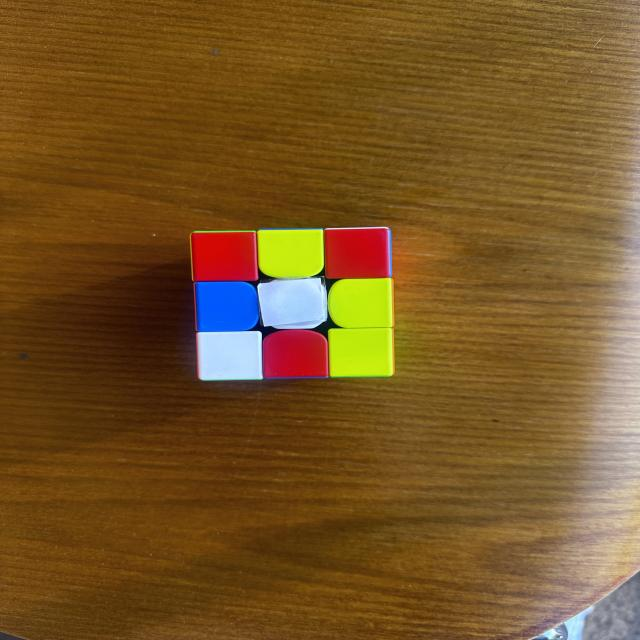sticker: (255, 276, 332, 331), (321, 226, 392, 281), (189, 230, 260, 284), (260, 328, 331, 380), (327, 278, 395, 329), (196, 330, 265, 380), (195, 281, 261, 333), (327, 328, 395, 378), (256, 229, 324, 279)
